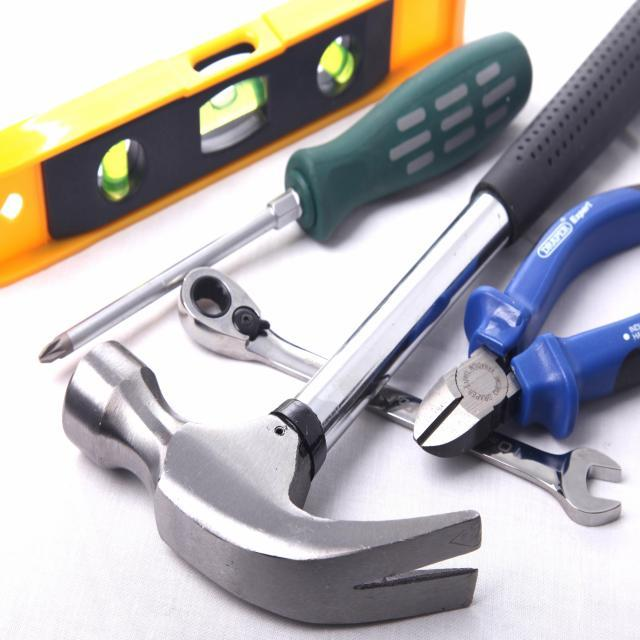hammer: (50, 0, 640, 631)
screwdriver: (36, 26, 550, 366)
